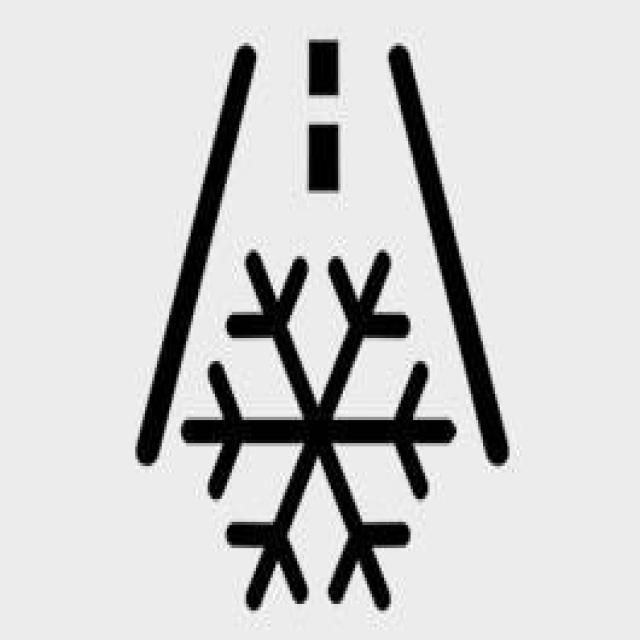kontrolka: (109, 56, 528, 583)
